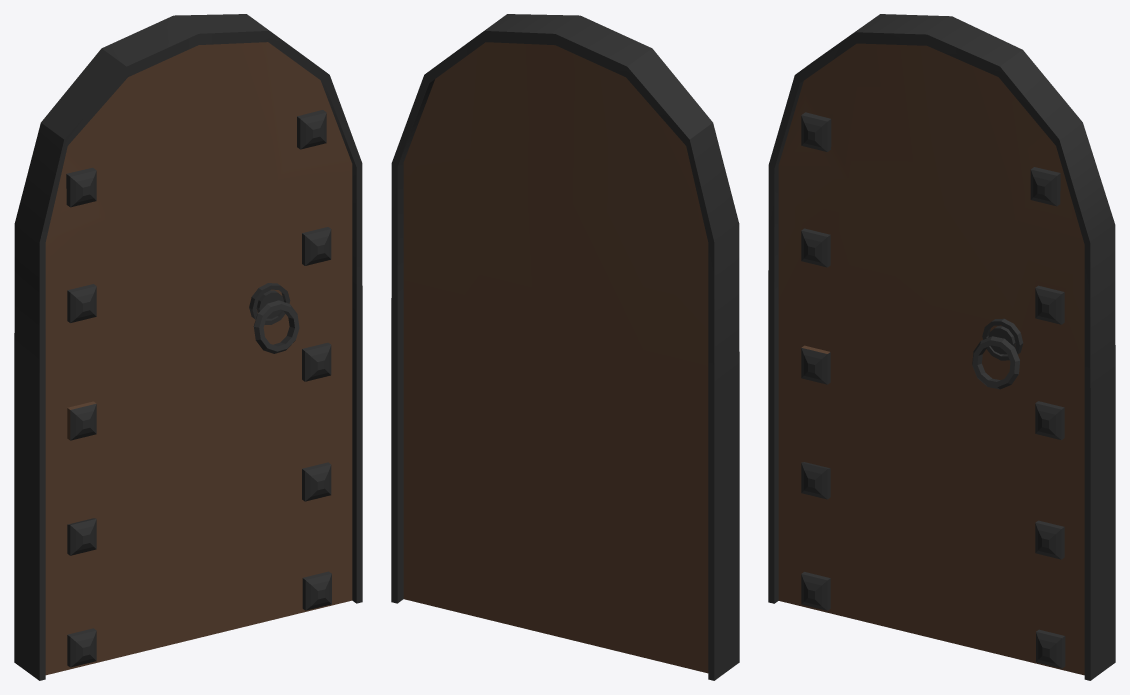
Rendered from Door_INTERA.fbx.
The picture shows the model from 3 angles, left to right: view 1: azimuth 30°, elevation 25°; view 2: azimuth 150°, elevation 25°; view 3: azimuth 330°, elevation 25°; orthographic projection.
Visible parts, largest first — view 1: Porta INTERA; view 2: Porta INTERA; view 3: Porta INTERA.
Part boxes in pixels (x1,y1,x2,y2): Porta INTERA: (14,14,362,680); Porta INTERA: (391,14,739,680); Porta INTERA: (768,14,1115,680).
Size of the model in its own units: 290 by 523 by 54.01.
